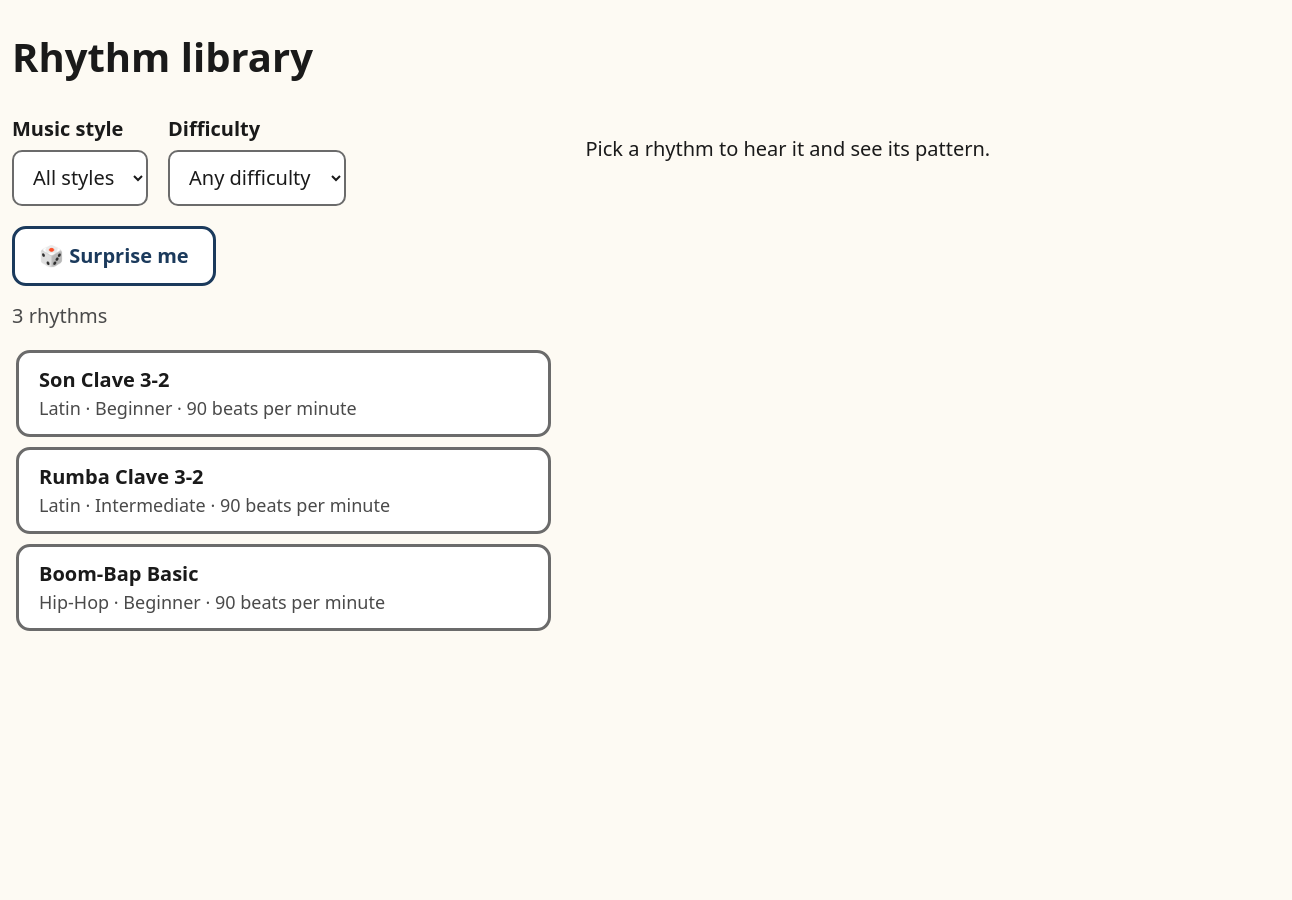
Test case: selecting a rhythm shows cultural notes and plays at chosen tempo
Later steps or results of the test are not shown.
Click the button "Son Clave 3-2 Latin · Beginner · 90 beats per minute" at (284, 393), box top-left (16, 350), bottom-right (552, 437)
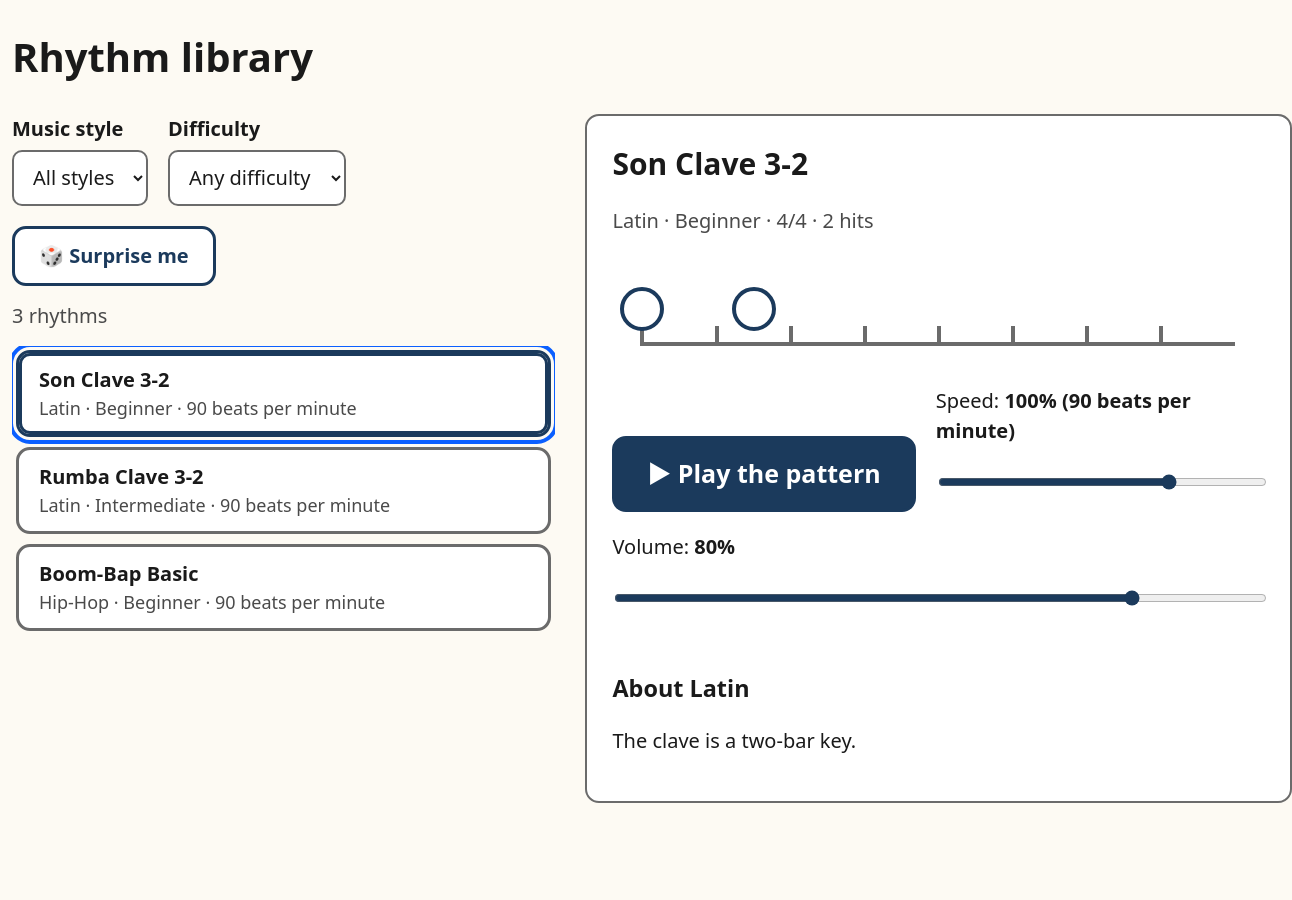
expect the text "The clave is a two-bar key." is shown: met, box top-left (612, 728), bottom-right (856, 754)
